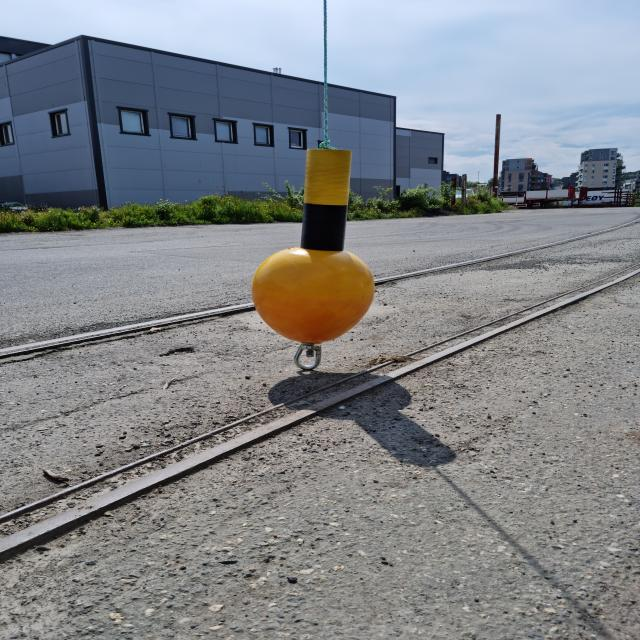west: (250, 148, 378, 344)
